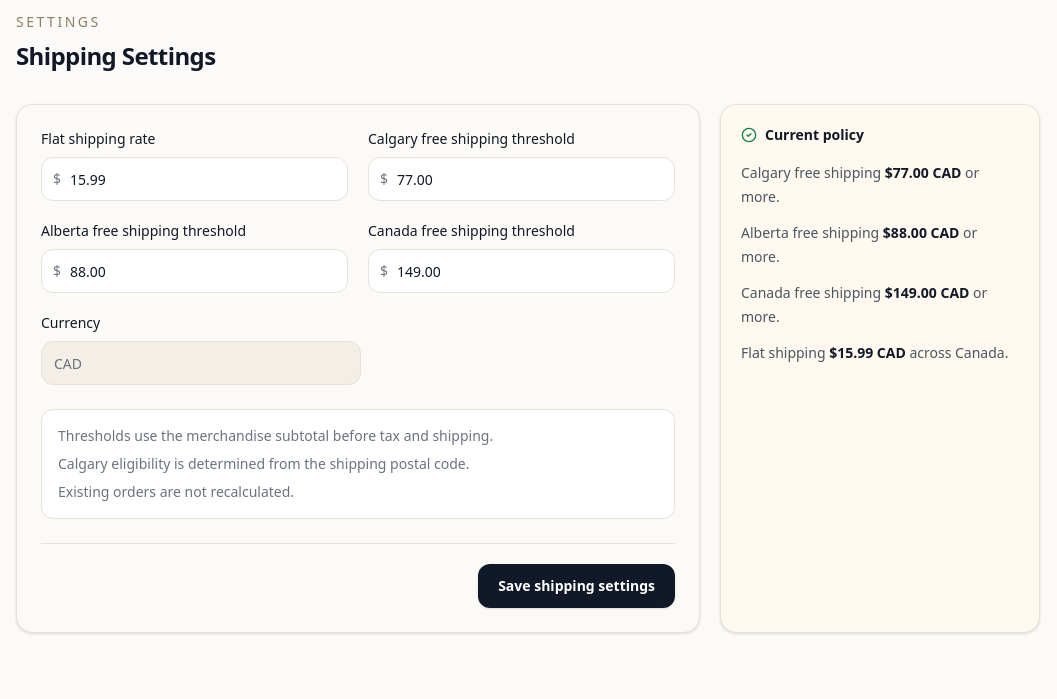
Test: AdminShippingSettingsPage › blocks invalid money inputs before mutation
The image size is (1057, 699).
Replace the text in the field labelled "Flat shipping rate" with "15.999": (194, 179) x1=41 y1=157 x2=348 y2=201
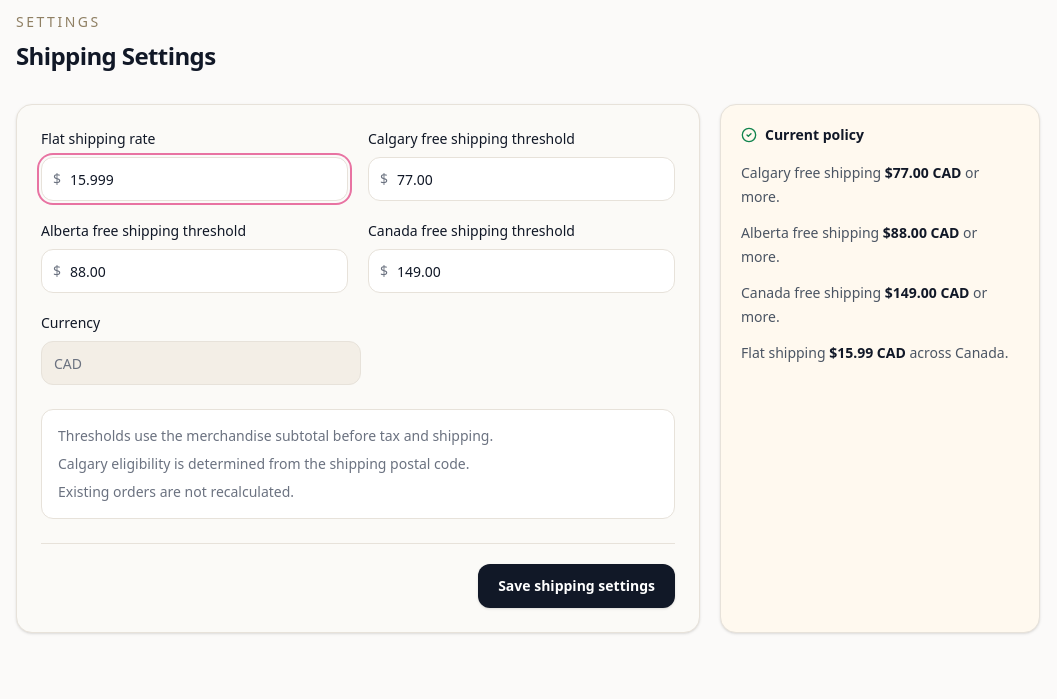
Click the button "Save shipping settings": (577, 586) x1=478 y1=564 x2=675 y2=608
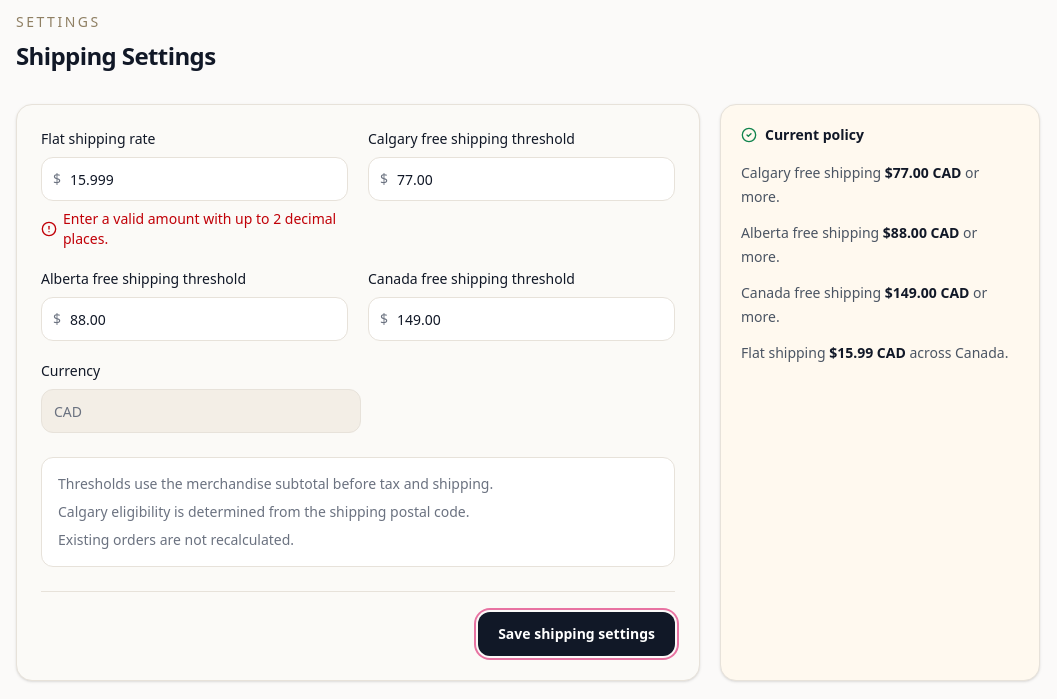
Expected: the text "Enter a valid amount with up to 2 decimal places." is shown, x1=41 y1=209 x2=348 y2=249
